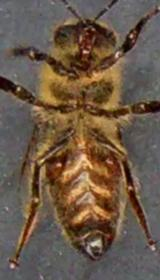varroa_mite: (35, 148, 67, 182), (96, 145, 126, 180)
